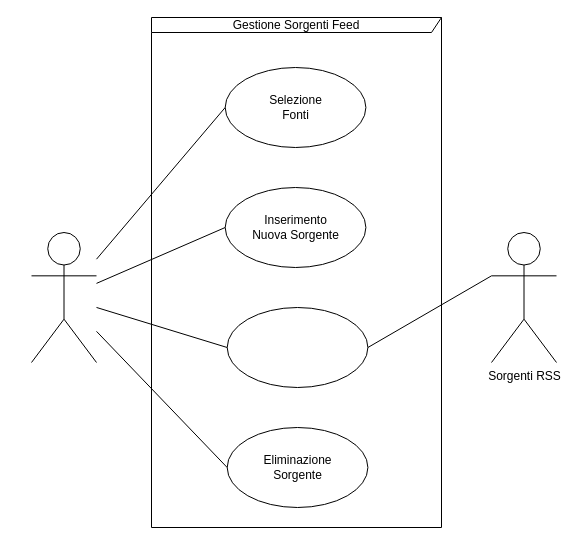
Some shapes in this 578 by 545 pixel diagram are drawn without their labels. Here are the shapes that lost their labels. From the top down, the centre of each, then its label:
At [63,297]: "Utente Registrato".
At [297,347]: "Sincronizzazione Contenuti".
